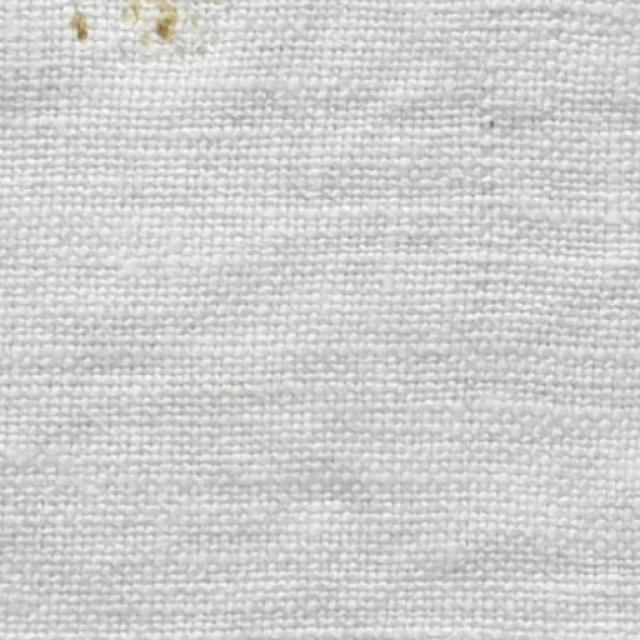Stain: (155, 9, 179, 39), (121, 0, 142, 23), (70, 10, 86, 39)
